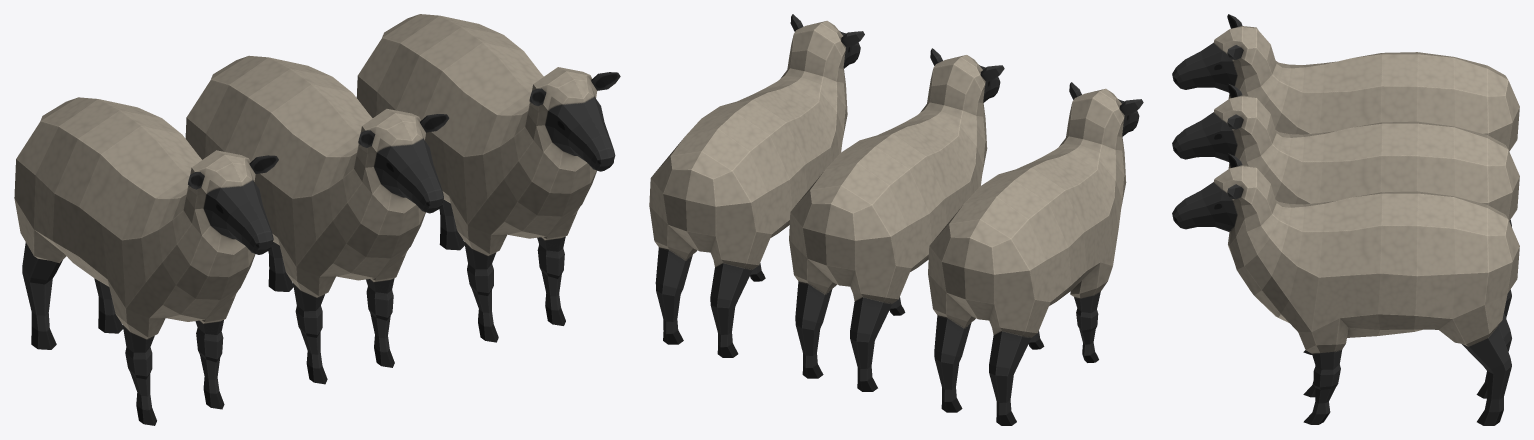
The model's file is Sheep1.obj.
3 views of the same model, side by side, from view 1: azimuth 30°, elevation 25°; view 2: azimuth 150°, elevation 25°; view 3: azimuth 270°, elevation 25° (orthographic). The views are drawn at different scales.
Visible parts, largest first — view 1: Sheep_mesh.2, Sheep_mesh.1, Sheep_mesh; view 2: Sheep_mesh.2, Sheep_mesh.1, Sheep_mesh; view 3: Sheep_mesh.1, Sheep_mesh, Sheep_mesh.2.
Boxes of the visible parts, <box> form: Sheep_mesh.2: <box>14,97,278,425</box>; Sheep_mesh.1: <box>356,14,620,342</box>; Sheep_mesh: <box>185,55,449,384</box>; Sheep_mesh.2: <box>928,82,1143,425</box>; Sheep_mesh.1: <box>649,14,864,357</box>; Sheep_mesh: <box>789,48,1004,391</box>; Sheep_mesh.1: <box>1172,153,1519,425</box>; Sheep_mesh: <box>1172,83,1519,354</box>; Sheep_mesh.2: <box>1172,14,1519,226</box>.
Bounding box in the file's own units: 8.55 × 4.93 × 6.42.
